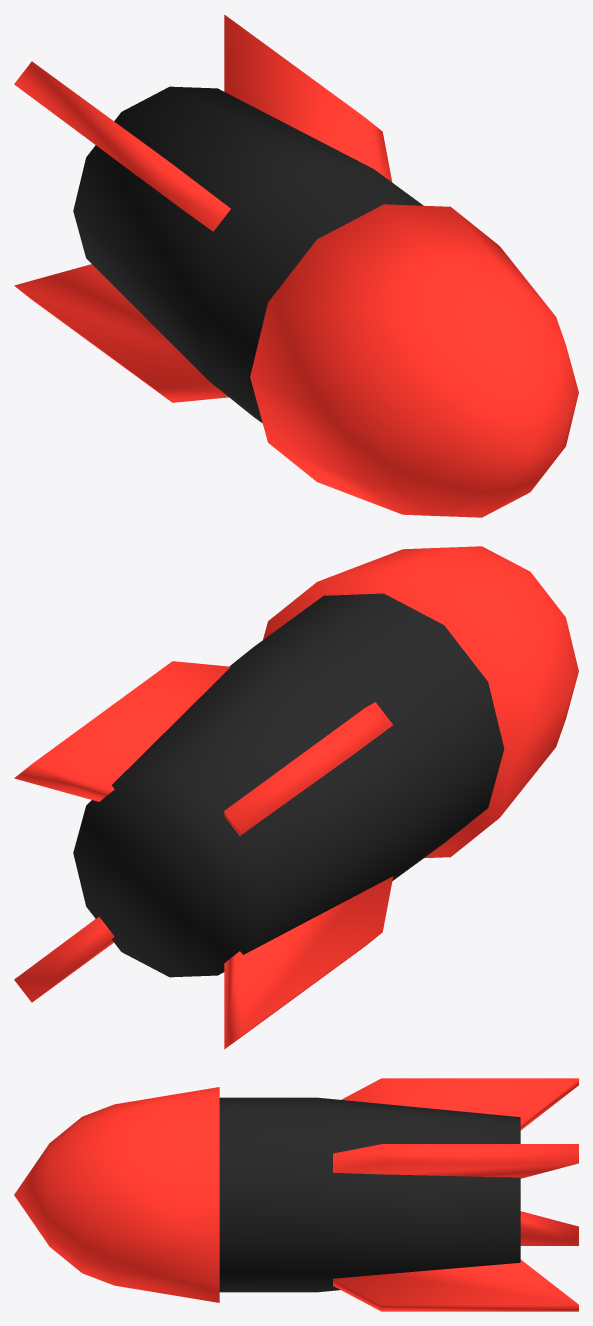
File: Rocket_mat.fbx
3 views of the same model, one above another, from view 1: azimuth 30°, elevation 25°; view 2: azimuth 150°, elevation 25°; view 3: azimuth 270°, elevation 25° (orthographic). The views are drawn at different scales.
Visible parts, largest first — view 1: Rocket; view 2: Rocket; view 3: Rocket.
Part boxes in pixels (x1,y1,x2,y2): Rocket: [14, 14, 578, 517]; Rocket: [14, 546, 578, 1049]; Rocket: [14, 1078, 578, 1311].
Bounding box in the file's own units: 20.06 × 20.06 × 52.24.
